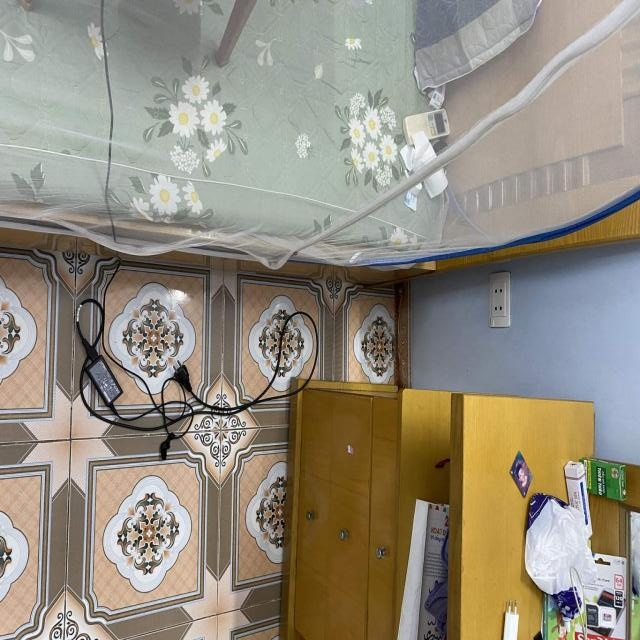outlet: (489, 270, 511, 328)
